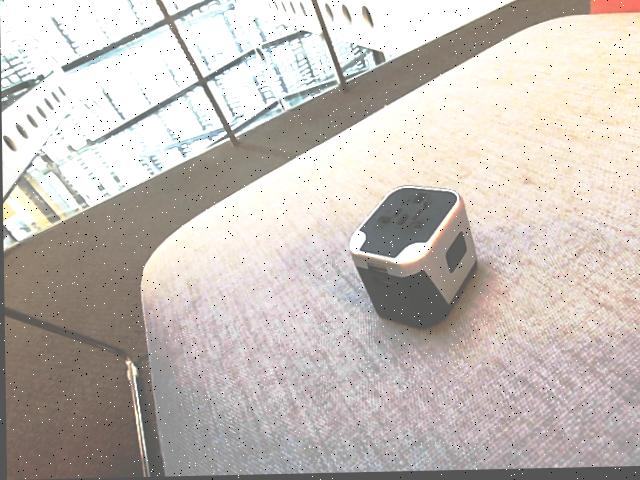adapter: (347, 185, 477, 332)
